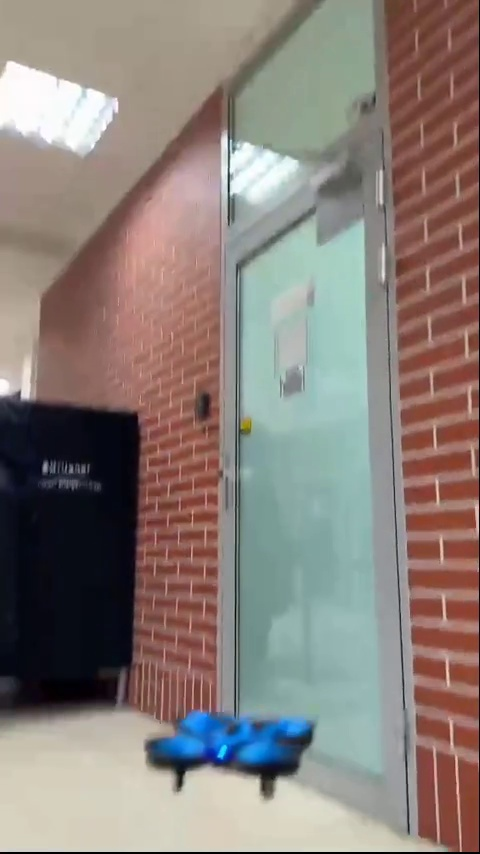drone: (152, 709, 316, 776)
